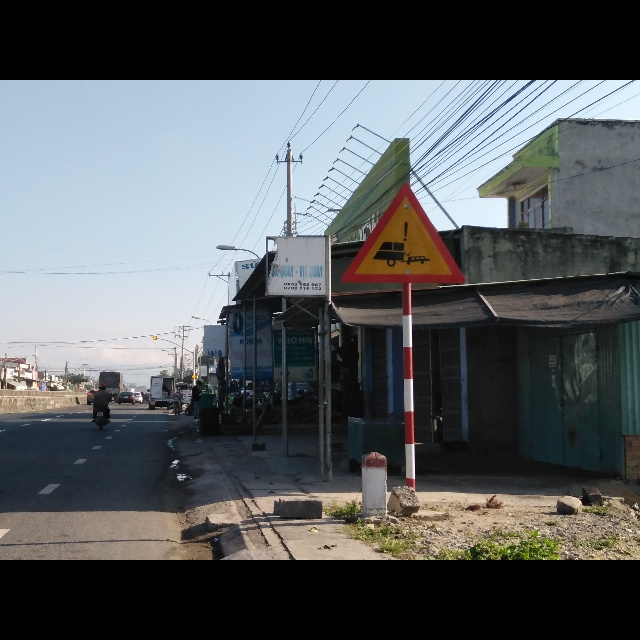Đoạn đường hay xảy ra tai nạn: (340, 178, 474, 285)
